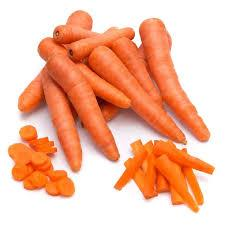Organic: (8, 6, 225, 211)
